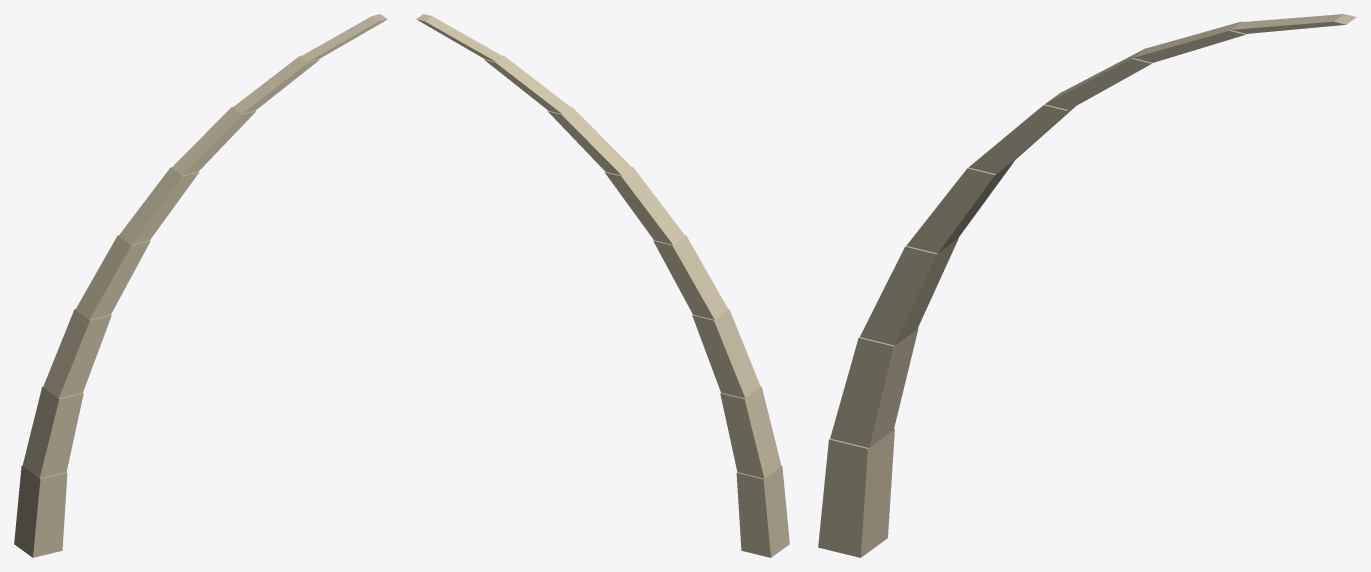
Rendered from SM_Desert_Rib.glb.
The picture shows the model from 3 angles, left to right: view 1: azimuth 30°, elevation 25°; view 2: azimuth 150°, elevation 25°; view 3: azimuth 330°, elevation 25°; orthographic projection. The views are drawn at different scales.
Parts seen in each view (by area): view 1: SM_Desert_Rib; view 2: SM_Desert_Rib; view 3: SM_Desert_Rib.
Boxes of the visible parts, x1,y1,x2,y2 form: SM_Desert_Rib: (14,14,387,557); SM_Desert_Rib: (416,14,789,557); SM_Desert_Rib: (818,14,1356,557).
Bounding box in the file's own units: 5.12 × 6.05 × 0.462.
Materials: 1 (1 with a texture image).
